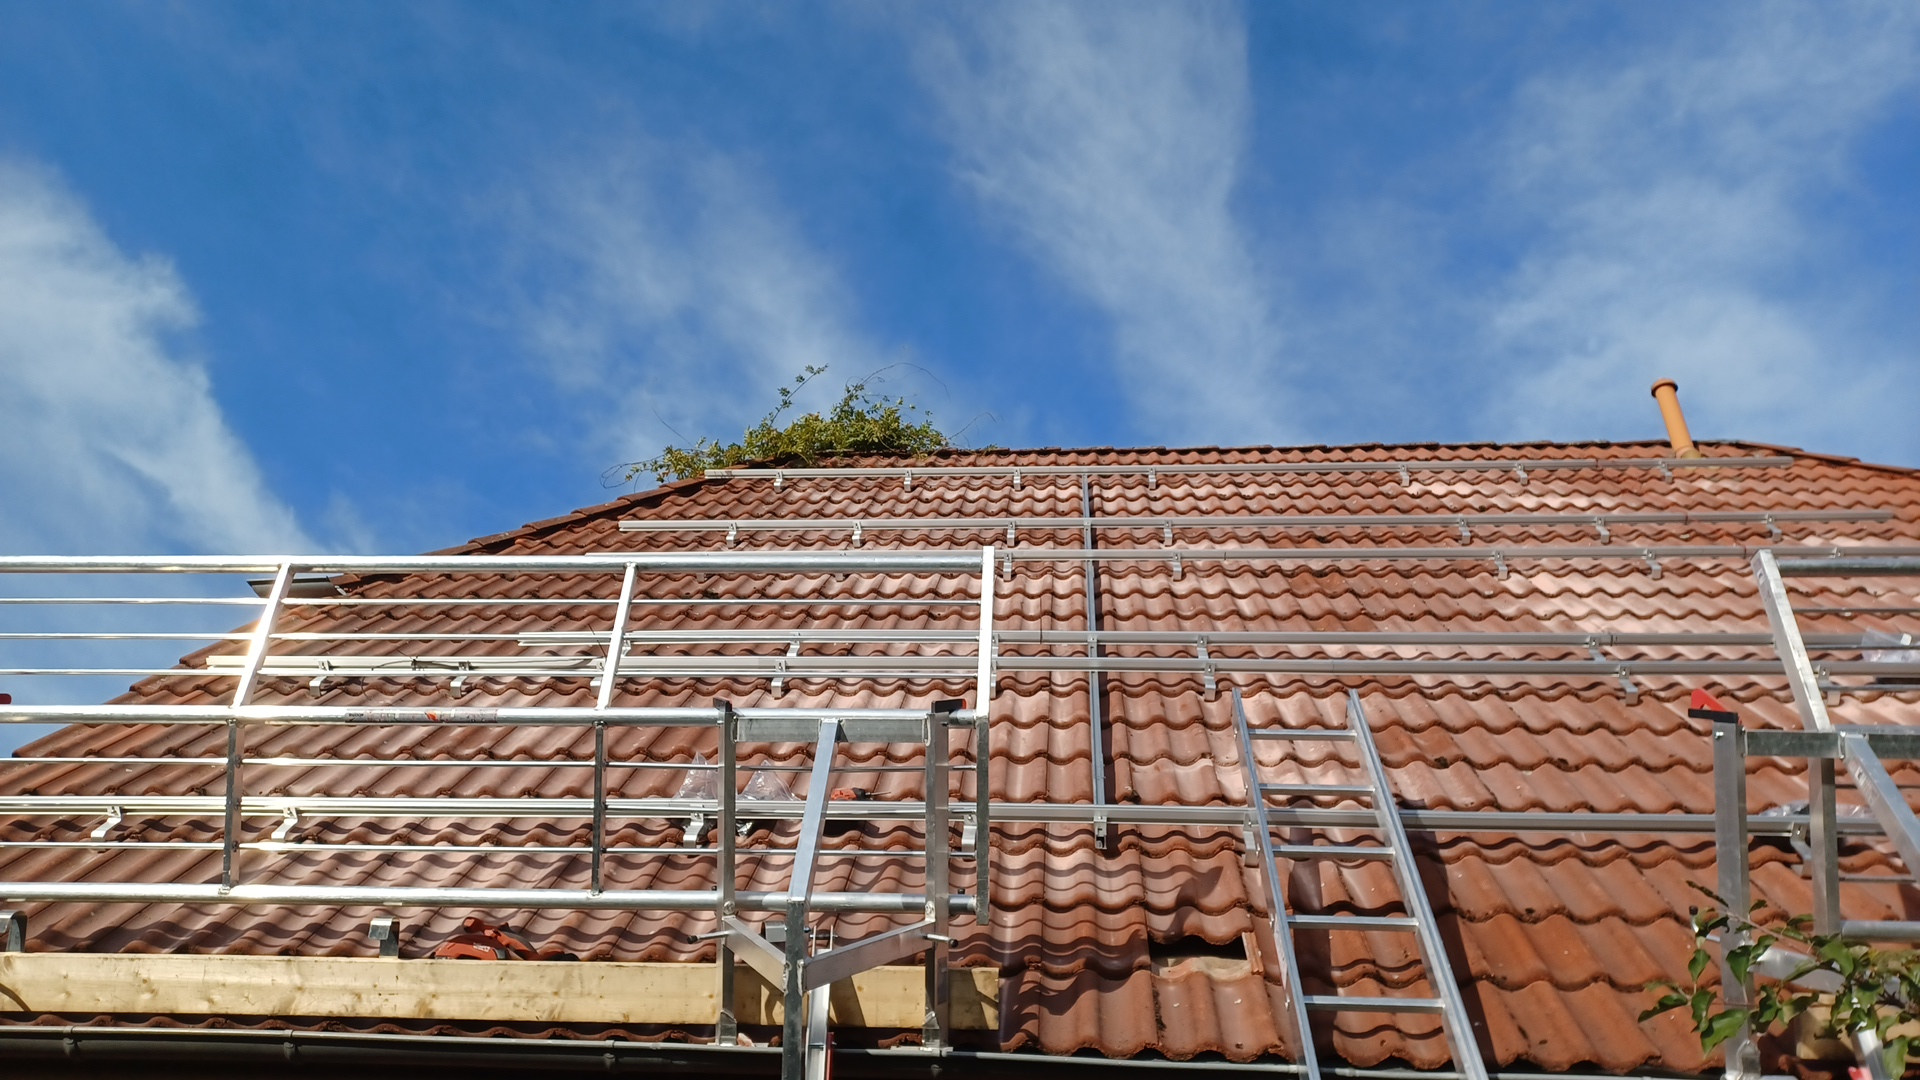hook: (90, 804, 123, 853), (272, 807, 302, 855), (1791, 822, 1815, 878), (683, 804, 707, 855), (1242, 812, 1259, 866), (1818, 662, 1840, 705), (961, 807, 977, 861), (1618, 665, 1638, 705), (450, 661, 469, 698), (309, 659, 328, 696), (771, 659, 786, 698), (1204, 661, 1216, 702), (1646, 549, 1662, 578), (1589, 636, 1606, 661), (1494, 550, 1509, 579), (1766, 514, 1782, 541), (1596, 516, 1609, 543), (1458, 516, 1470, 545), (1659, 460, 1673, 483), (1196, 634, 1208, 659), (727, 522, 738, 547), (787, 633, 800, 655), (852, 521, 862, 547), (1172, 550, 1182, 579), (1516, 463, 1528, 484), (589, 676, 603, 695), (774, 471, 785, 493), (1004, 551, 1011, 580), (1164, 520, 1172, 545), (622, 634, 632, 655), (1400, 463, 1408, 487), (992, 633, 1000, 655), (1007, 520, 1014, 546), (905, 469, 913, 491), (992, 659, 996, 700), (1014, 467, 1021, 491), (1149, 467, 1155, 488), (696, 571, 707, 582), (1836, 547, 1845, 559)
